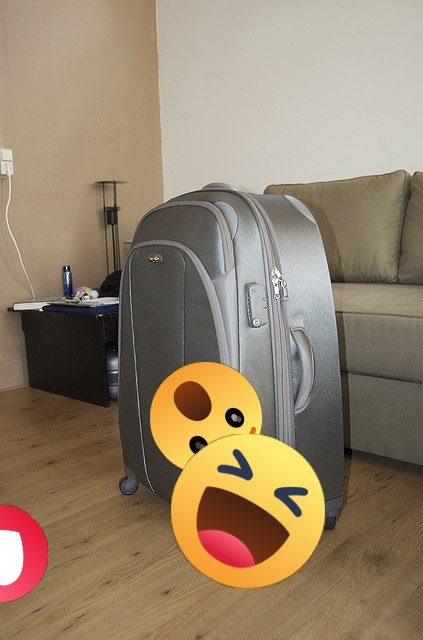haha: (171, 434, 325, 588)
love: (0, 505, 48, 602)
wow: (150, 362, 262, 474)
